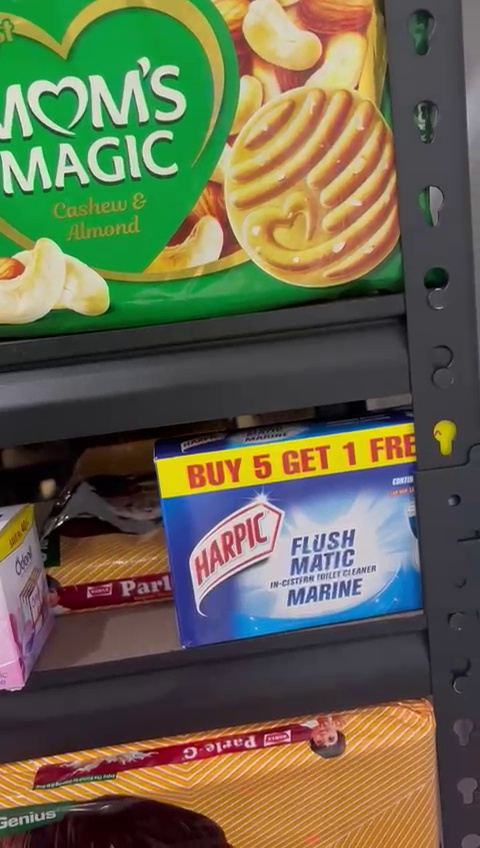Harpic: (166, 430, 423, 619)
